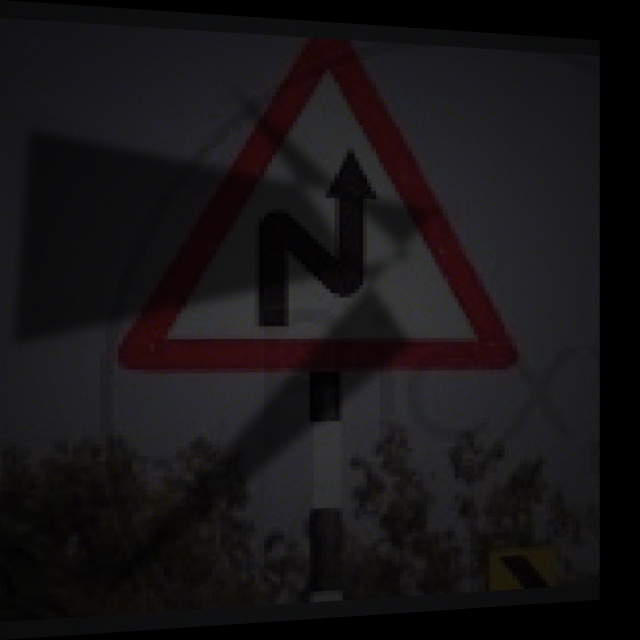Right_Reverse_Bend: (136, 50, 512, 374)
